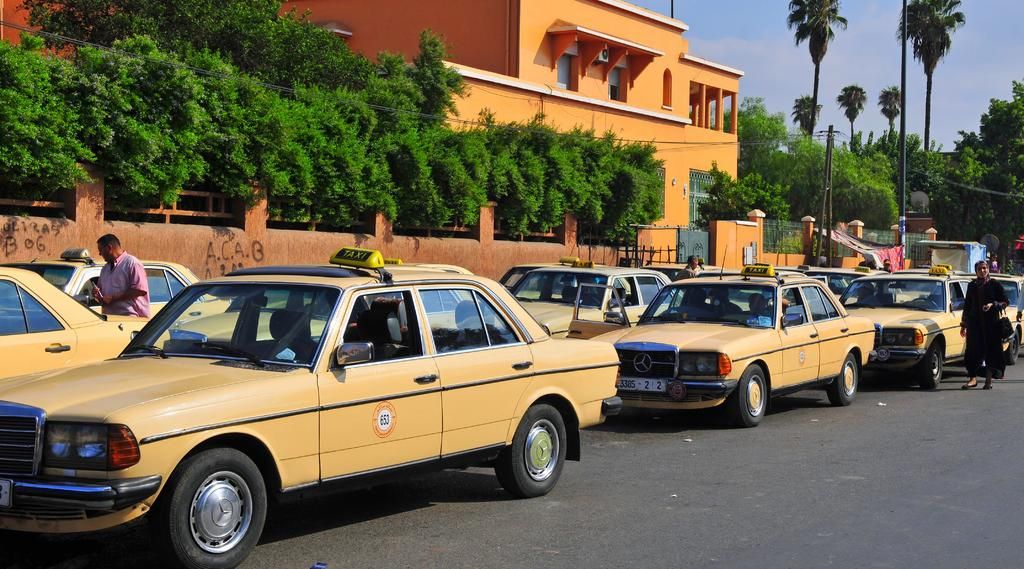taxi: (1, 249, 1024, 569)
